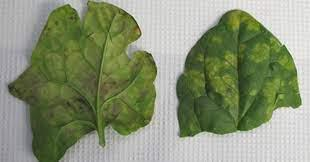Bok-Choy-Diseased: (179, 18, 289, 125)
